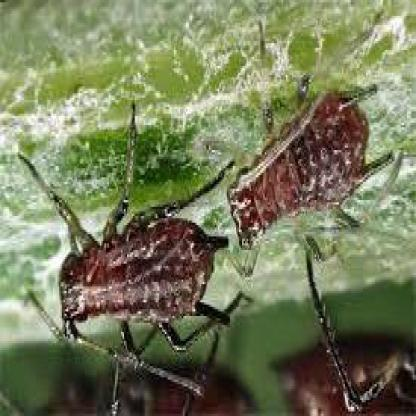uroleucon compositae: (49, 114, 233, 353), (225, 85, 398, 247)
